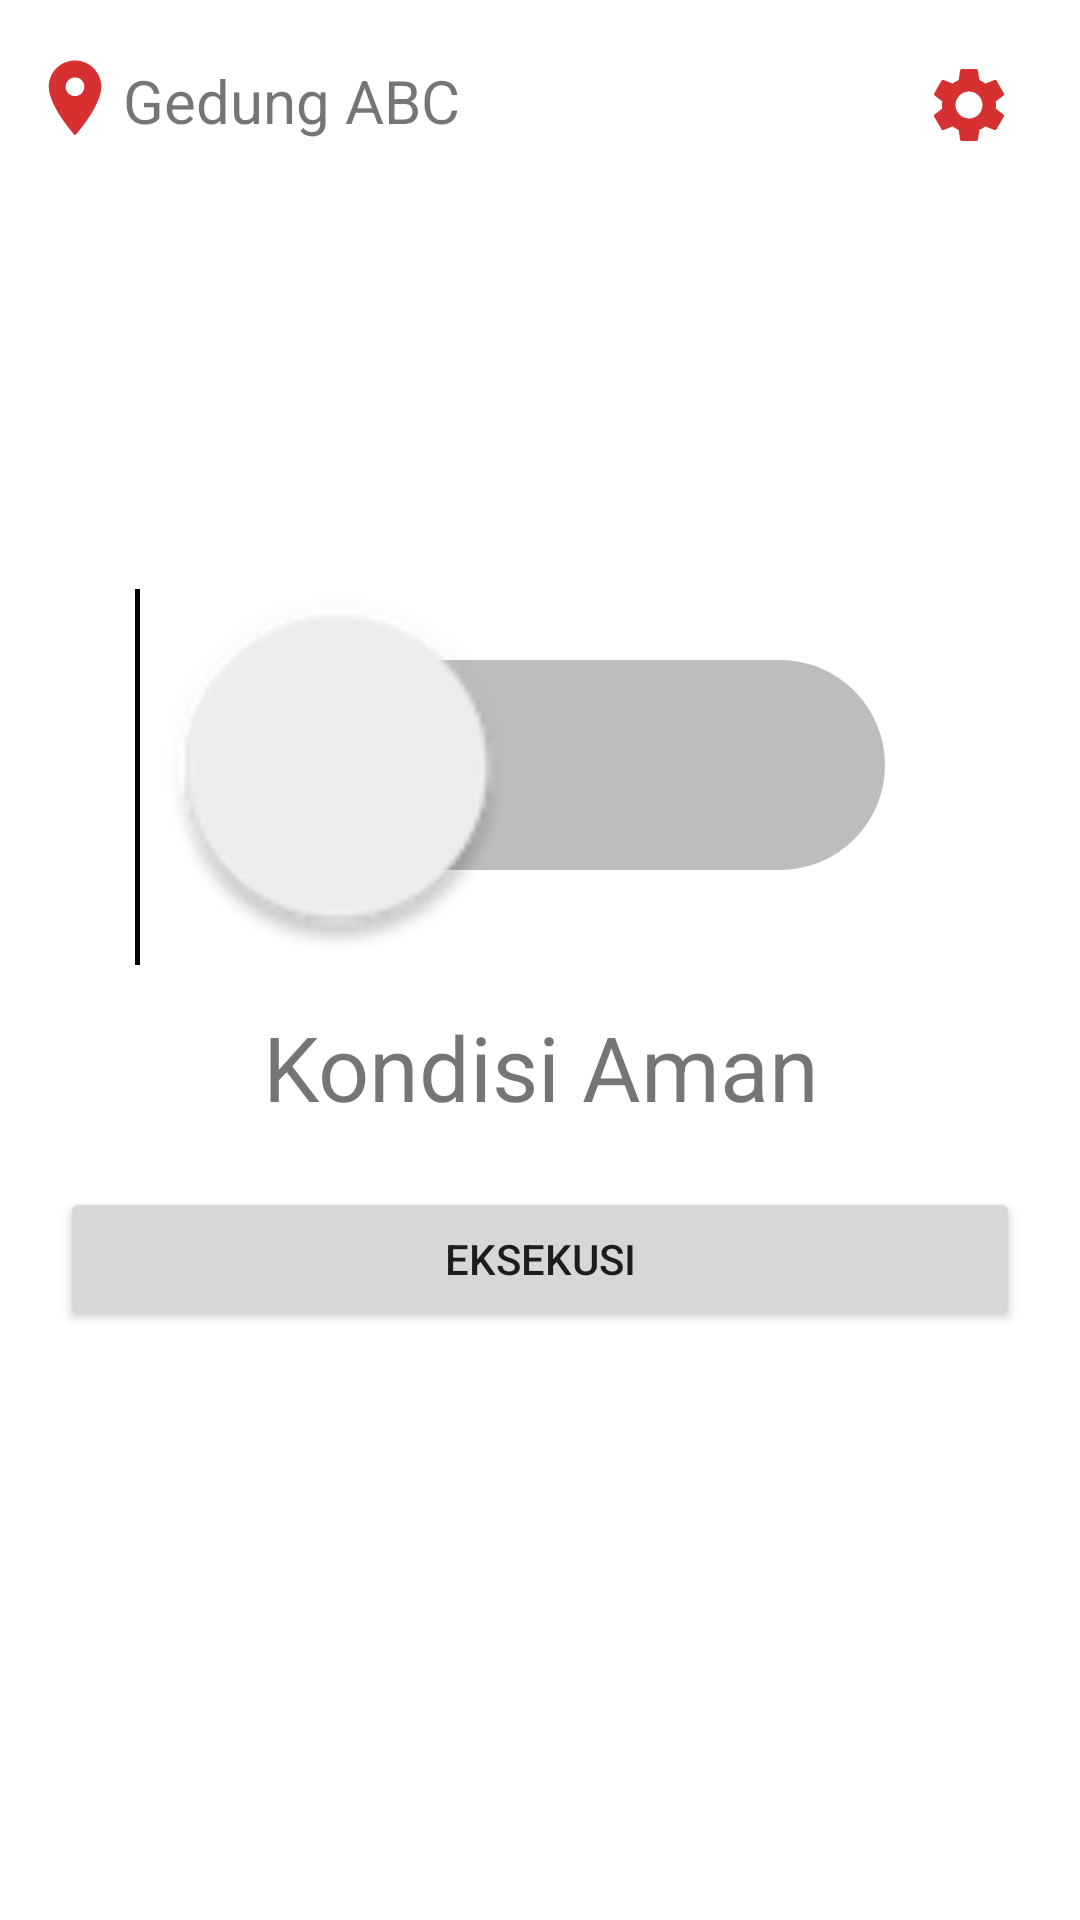

Where to tap for icons on this 1080*1920 app screen, as [x,y]:
location on: [75,97]
settings: [969,105]
